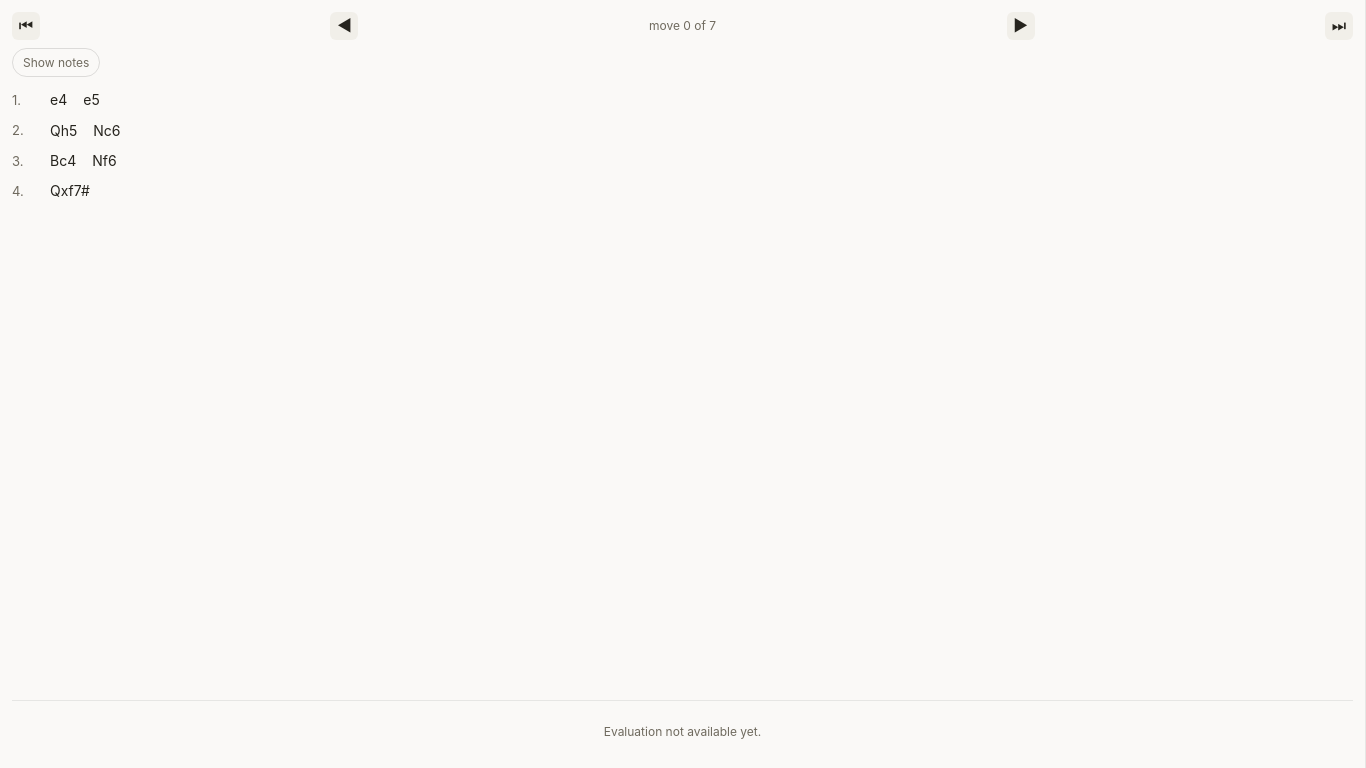
MoveExplorer › right-clicking a move opens the analysis inspector with its saved analysis
Right-click the button "e4" at point(59, 100), box left=44, top=87, right=73, bottom=114
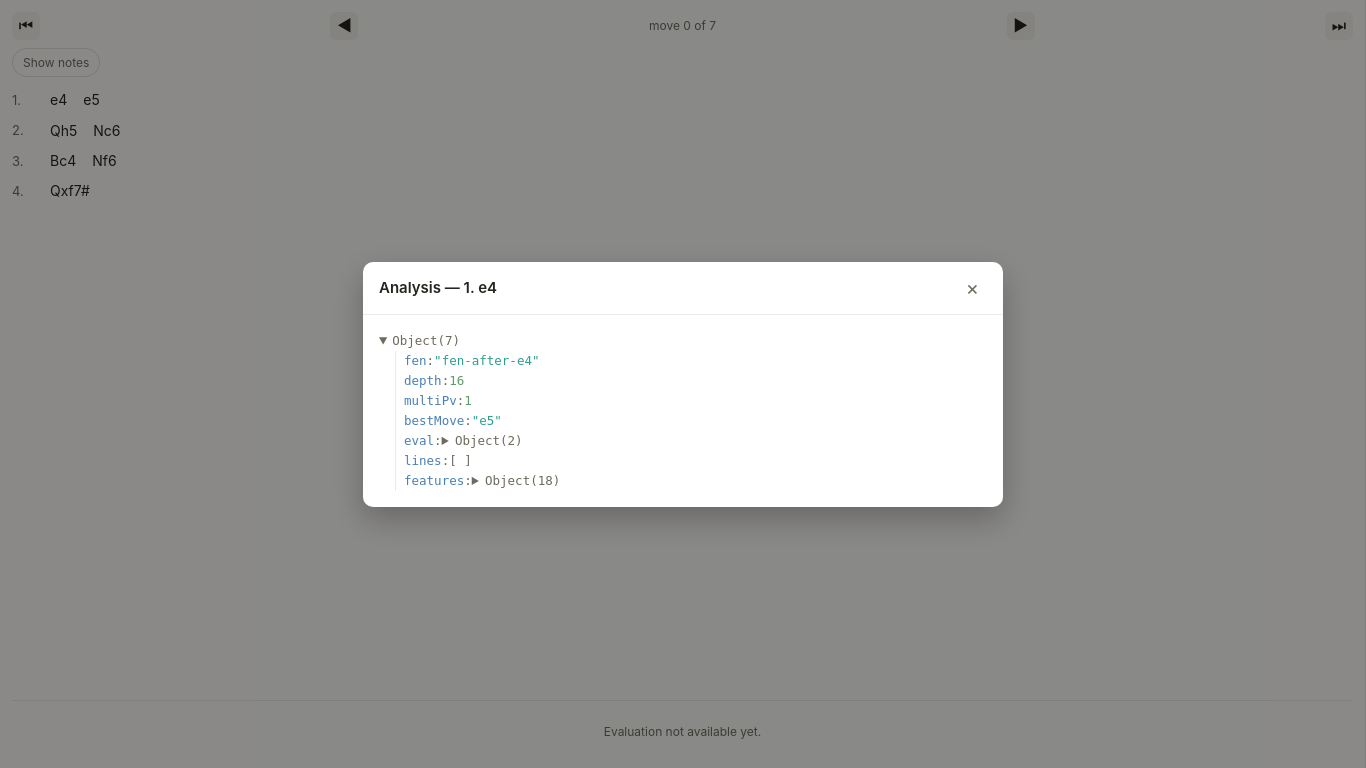
Expected: the dialog "1. e4" is shown, left=363, top=262, right=1003, bottom=506
